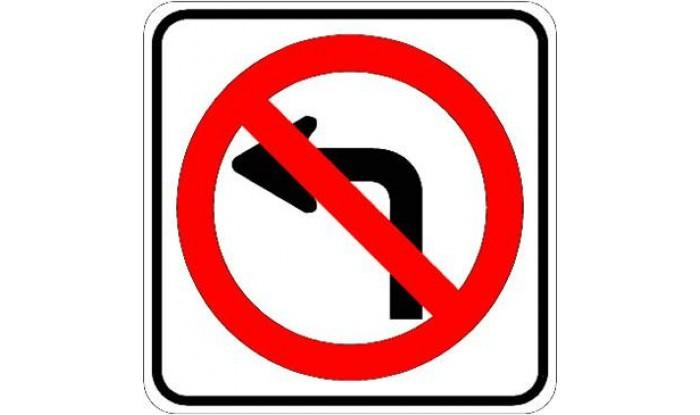no_left_turn: (175, 32, 525, 379)
